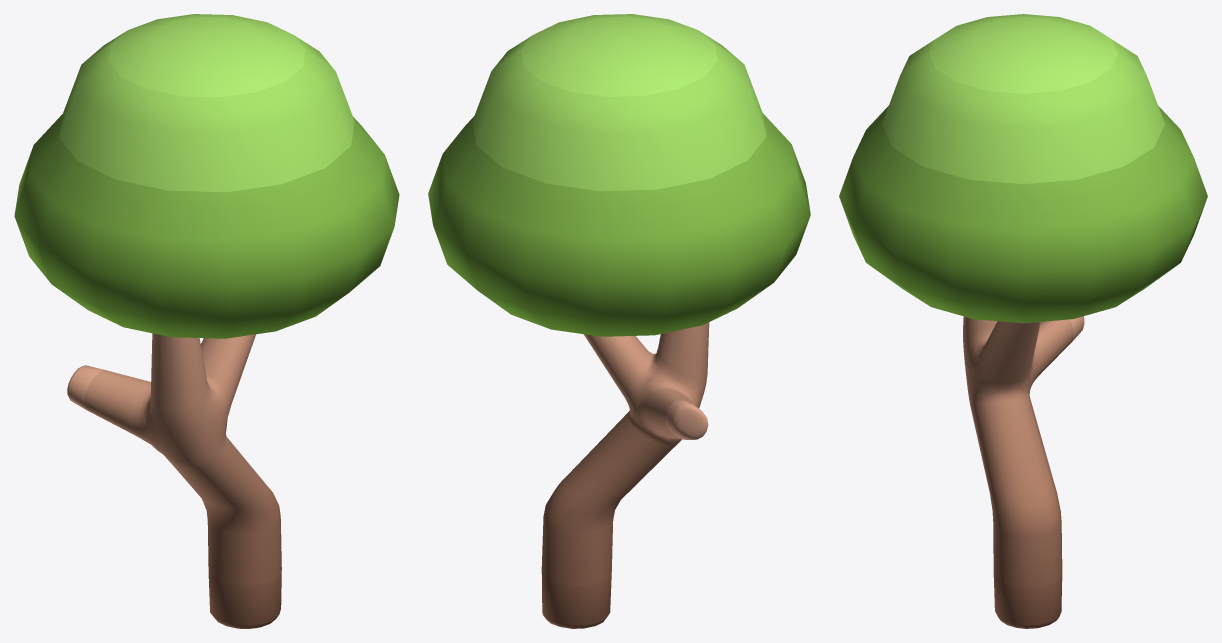
The model's file is tree_fur.fbx.
The picture shows the model from 3 angles, left to right: view 1: azimuth 30°, elevation 25°; view 2: azimuth 150°, elevation 25°; view 3: azimuth 270°, elevation 25°; orthographic projection. The views are drawn at different scales.
Parts seen in each view (by area): view 1: tree_fur; view 2: tree_fur; view 3: tree_fur.
Boxes of the visible parts, x1,y1,x2,y2 form: tree_fur: (14, 14, 399, 628); tree_fur: (428, 14, 810, 628); tree_fur: (839, 14, 1207, 628).
Size of the model in its own units: 158 by 268 by 158.
